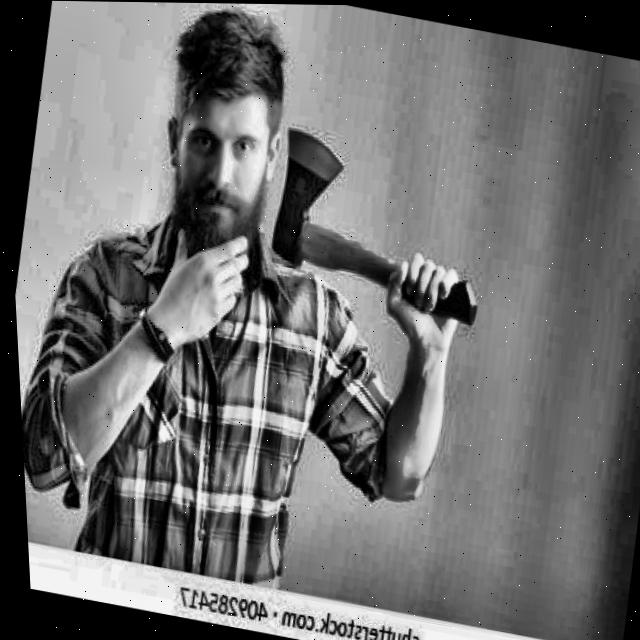kapak: (267, 121, 493, 344)
